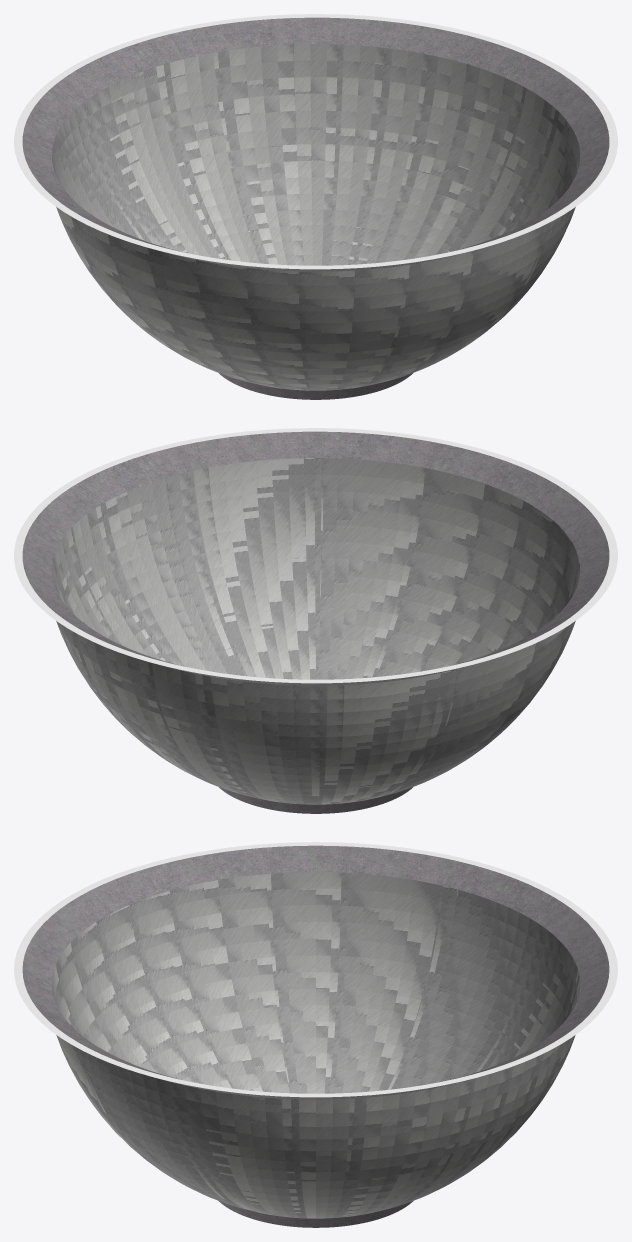
File: bowl_02_origin.dae
The picture shows the model from 3 angles, top to bottom: view 1: azimuth 30°, elevation 25°; view 2: azimuth 150°, elevation 25°; view 3: azimuth 270°, elevation 25°; orthographic projection.
Visible parts, largest first — view 1: group_0 (×6); view 2: group_0 (×6); view 3: group_0 (×6).
Boxes of the visible parts, left/top/right/bottom form: group_0 (×6): left=14, top=14, right=617, bottom=399; group_0 (×6): left=14, top=428, right=617, bottom=813; group_0 (×6): left=14, top=842, right=617, bottom=1227.
Size of the model in its own units: 5.8 by 5.8 by 2.32.
3 materials, 2 textured.
